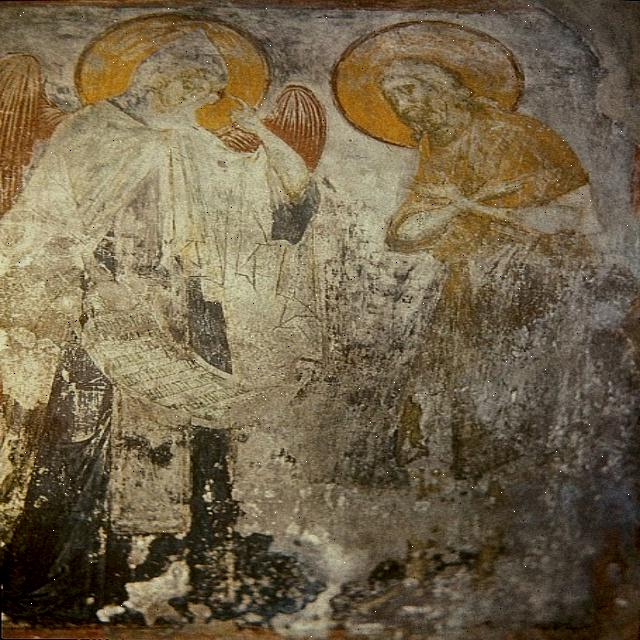angel: (2, 16, 330, 358)
aura: (330, 20, 530, 151), (73, 14, 272, 134)
saint: (333, 18, 607, 416)
scroll: (76, 306, 286, 421)
wing: (2, 36, 70, 219), (266, 82, 328, 183)
